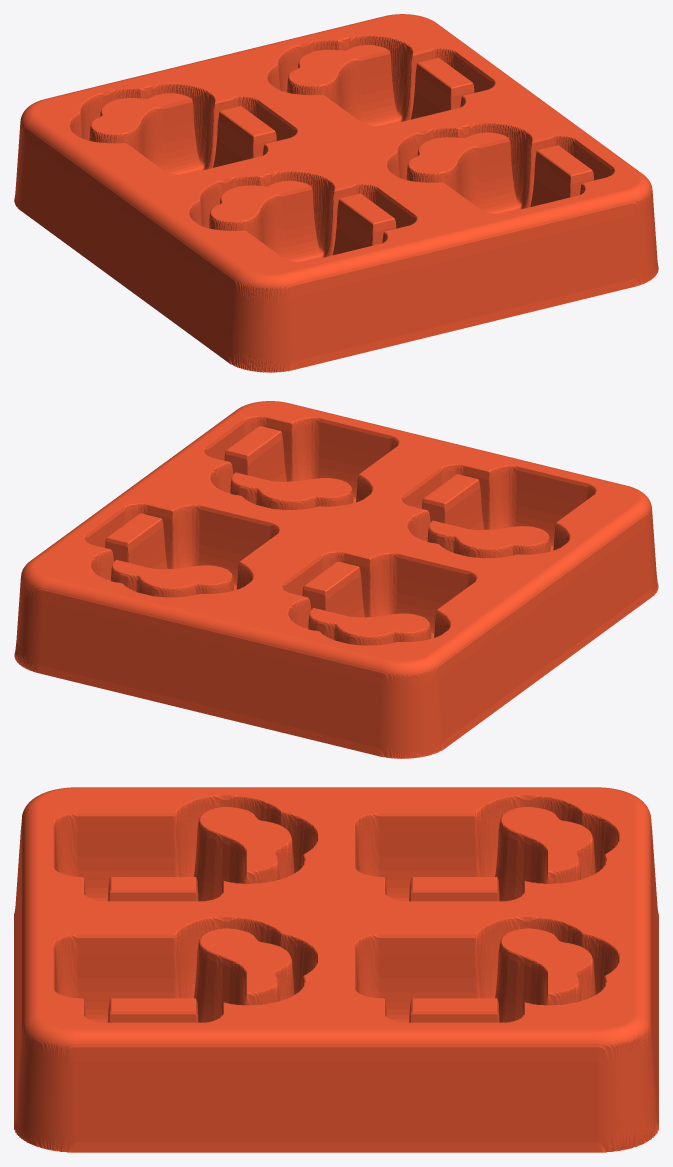
Rendered from mold.glb.
The picture shows the model from 3 angles, top to bottom: view 1: azimuth 30°, elevation 25°; view 2: azimuth 150°, elevation 25°; view 3: azimuth 270°, elevation 25°; orthographic projection. The views are drawn at different scales.
Parts seen in each view (by area): view 1: geometry_0; view 2: geometry_0; view 3: geometry_0.
Boxes of the visible parts, x1,y1,x2,y2 form: geometry_0: [14, 14, 658, 372]; geometry_0: [14, 401, 658, 758]; geometry_0: [14, 787, 658, 1152].
Size of the model in its own units: 0.0902 by 0.0182 by 0.0942.
